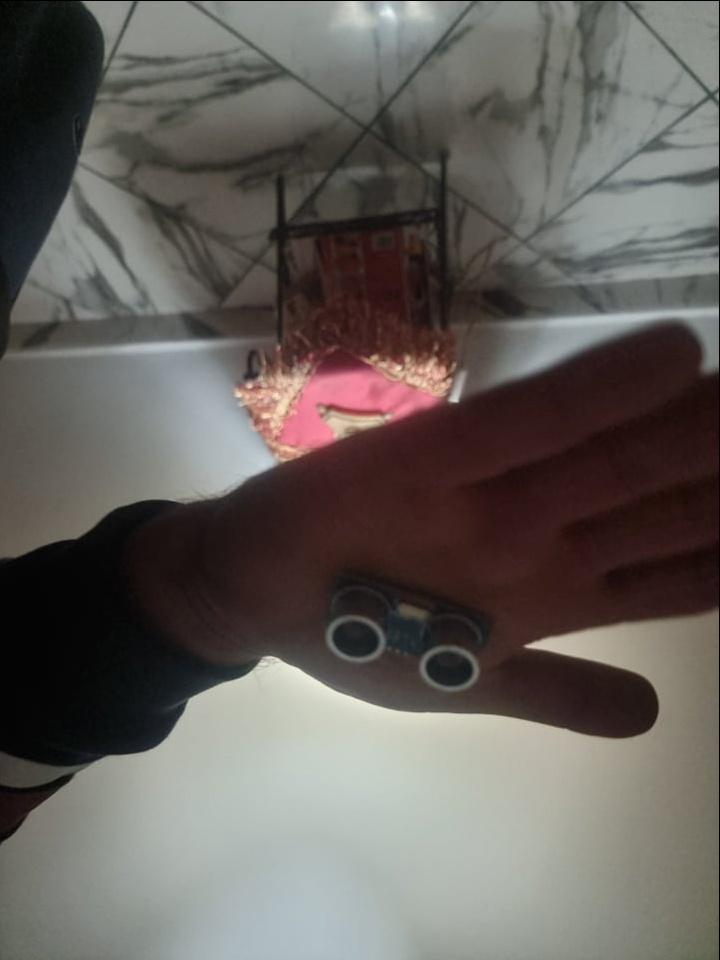SENSOR: (321, 561, 501, 698)
